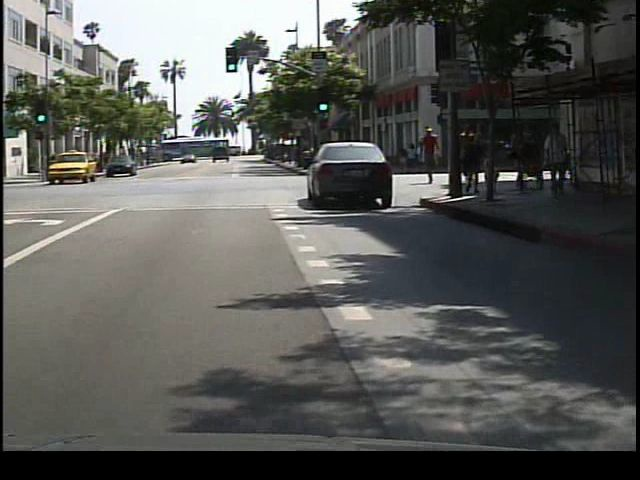person: (419, 123, 447, 186)
